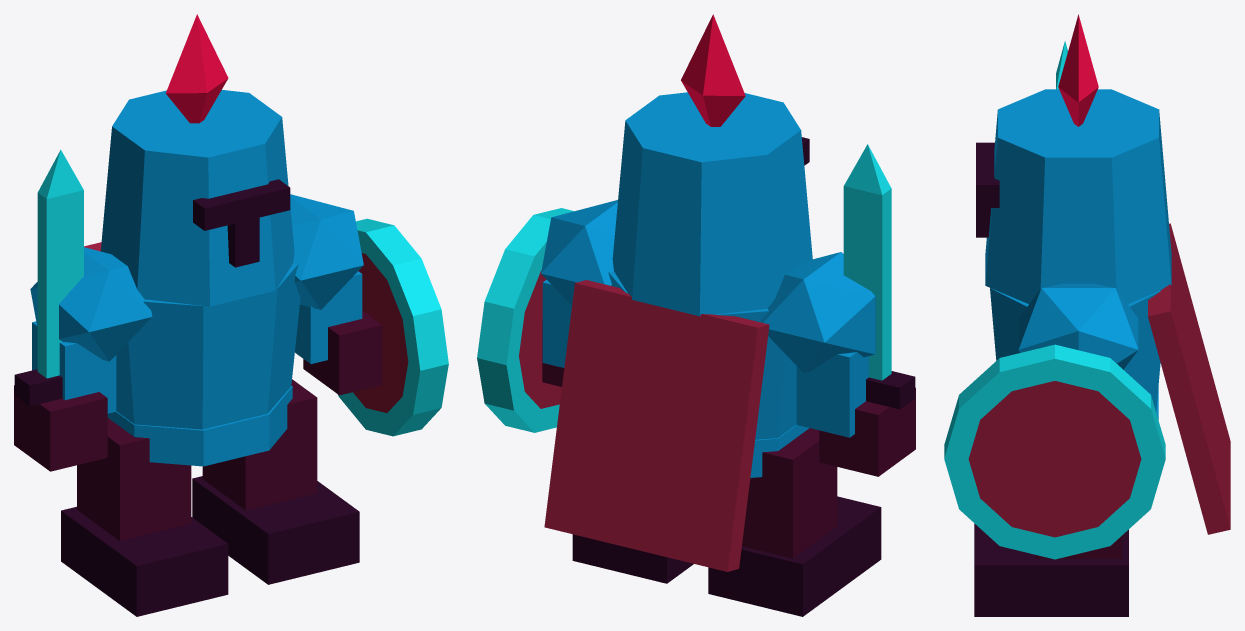
The model's file is hero.glb.
3 views of the same model, side by side, from view 1: azimuth 30°, elevation 25°; view 2: azimuth 150°, elevation 25°; view 3: azimuth 270°, elevation 25° (orthographic). The views are drawn at different scales.
Parts seen in each view (by area): view 1: HeroBody, ShieldArm, SwordArm; view 2: HeroBody, SwordArm, ShieldArm; view 3: HeroBody, ShieldArm.
Boxes of the visible parts, bbox=[...] form: HeroBody: bbox=[30, 14, 363, 616]; ShieldArm: bbox=[295, 218, 448, 436]; SwordArm: bbox=[14, 149, 116, 471]; HeroBody: bbox=[541, 14, 881, 616]; SwordArm: bbox=[796, 144, 915, 476]; ShieldArm: bbox=[477, 208, 573, 432]; HeroBody: bbox=[974, 14, 1230, 616]; ShieldArm: bbox=[944, 344, 1165, 559].
Size of the model in its own units: 1.29 by 1.8 by 0.8535.
